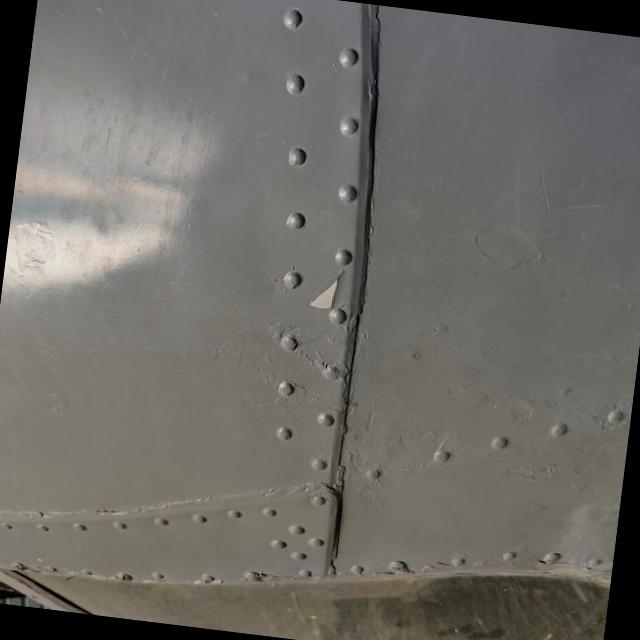paint-off: (296, 252, 358, 322)
